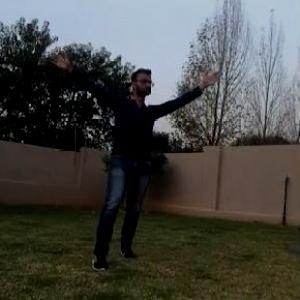takeoff: (50, 40, 221, 270)
